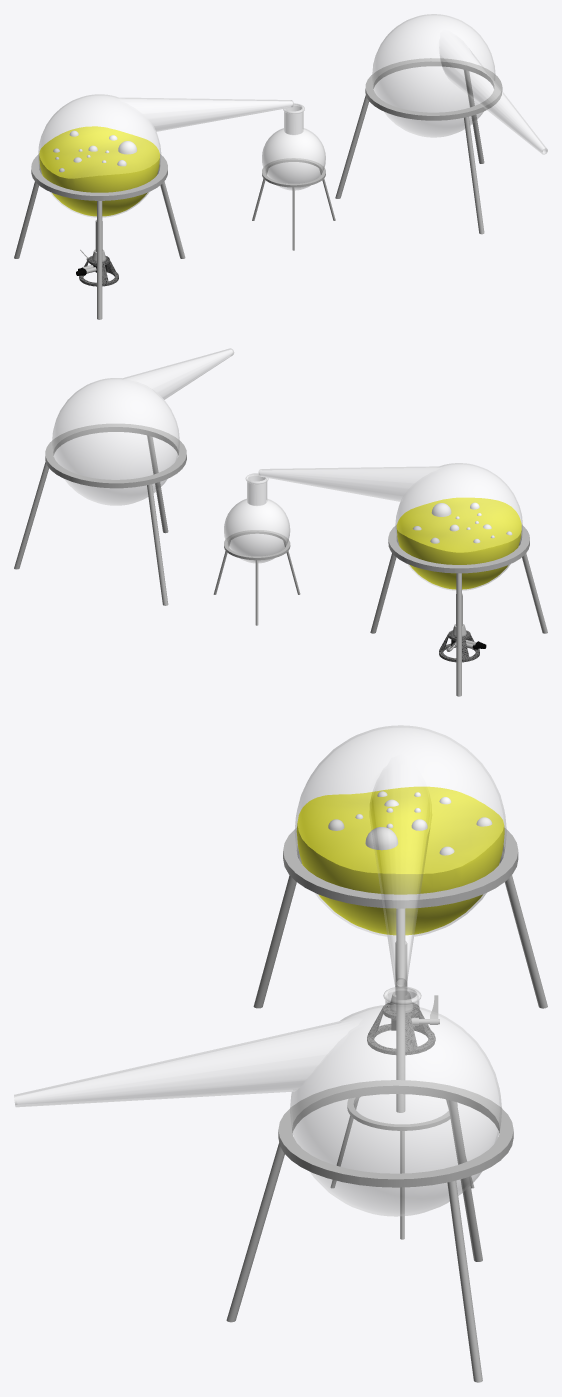
The model's file is glasses.dae.
3 views of the same model, one above another, from view 1: azimuth 30°, elevation 25°; view 2: azimuth 150°, elevation 25°; view 3: azimuth 270°, elevation 25° (orthographic). The views are drawn at different scales.
Visible parts, largest first — view 1: group_6 (×2), group_22, group_0 (×2), group_23 (×5), group_1 (×4), group_4, bunsen_burner; view 2: group_6 (×2), group_22, group_0 (×2), group_23 (×5), group_1 (×4), bunsen_burner, group_4; view 3: group_6 (×2), group_22, group_23 (×5), group_1 (×4), bunsen_burner, group_4.
Part boxes in pixels (box(x1,y1,x2,y2)): group_6 (×2): box(38, 94, 293, 217); group_22: box(372, 14, 547, 153); group_0 (×2): box(262, 103, 325, 190); group_23 (×5): box(335, 58, 502, 234); group_1 (×4): box(14, 154, 185, 319); group_4: box(262, 158, 325, 187); bunsen_burner: box(79, 255, 118, 286); group_6 (×2): box(258, 463, 522, 590); group_22: box(52, 348, 233, 505); group_0 (×2): box(224, 473, 290, 563); group_23 (×5): box(14, 423, 186, 605); group_1 (×4): box(370, 524, 547, 696); bunsen_burner: box(439, 630, 479, 662); group_4: box(224, 530, 290, 560); group_6 (×2): box(294, 725, 506, 987); group_22: box(14, 1004, 501, 1216); group_23 (×5): box(226, 1080, 513, 1382); group_1 (×4): box(253, 827, 547, 1112); bunsen_burner: box(367, 1002, 435, 1055); group_4: box(347, 1097, 457, 1130).
Bounding box in the file's own units: 34.31 × 19.8 × 12.53.
